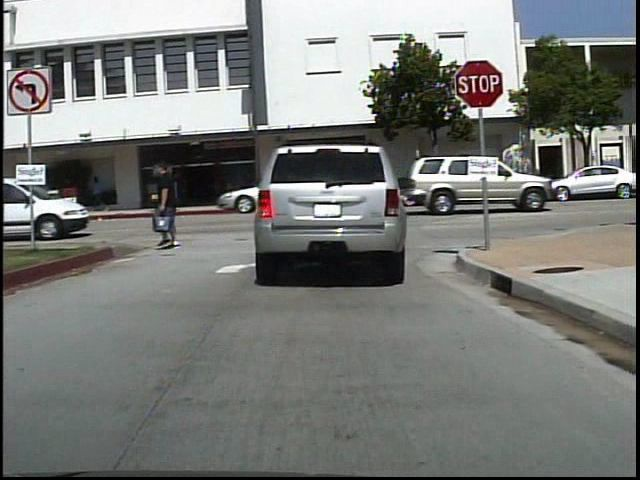person: (145, 160, 195, 253), (67, 171, 91, 216), (88, 173, 111, 211)
